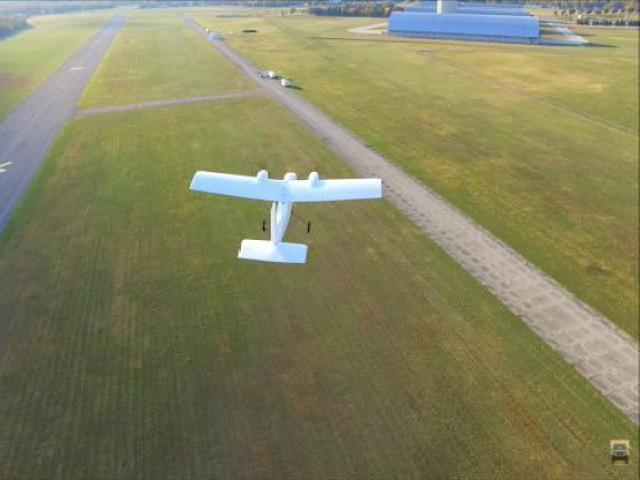uav: (193, 167, 384, 262)
